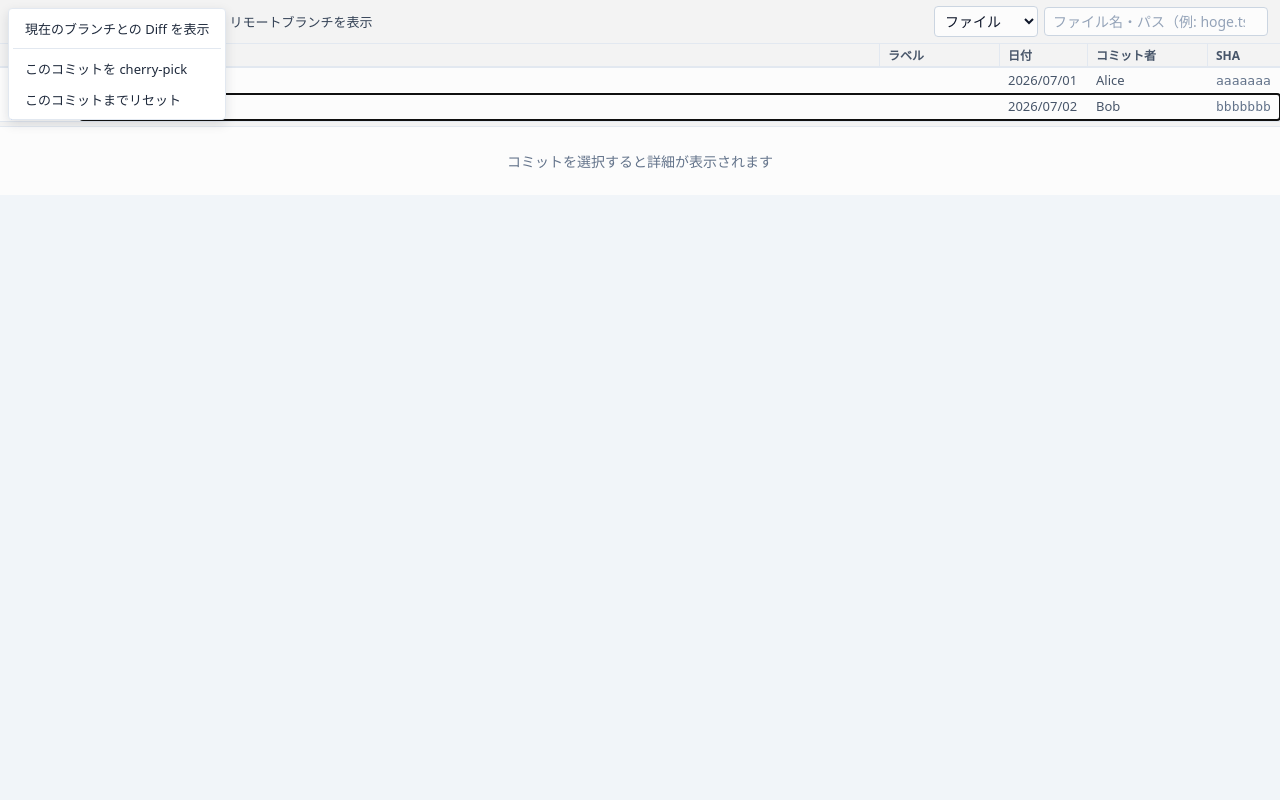
it: HistoryView › keeps cherry-pick in progress on conflict and shows guidance
Click the menu item "このコミットを cherry-pick".
click(117, 68)  # box [13, 53, 221, 84]
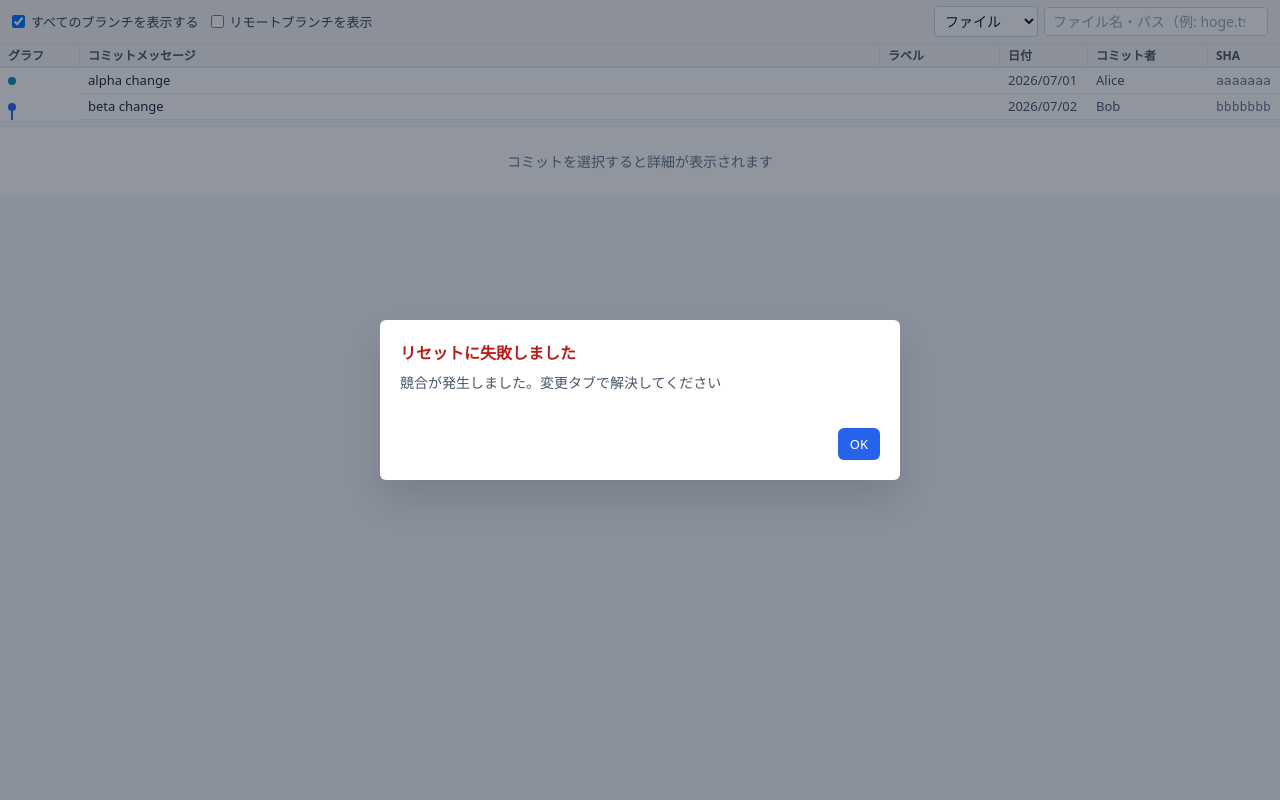
Expected: the text "競合が発生しました。変更タブで解決してください" is shown, [400, 373, 721, 392]
